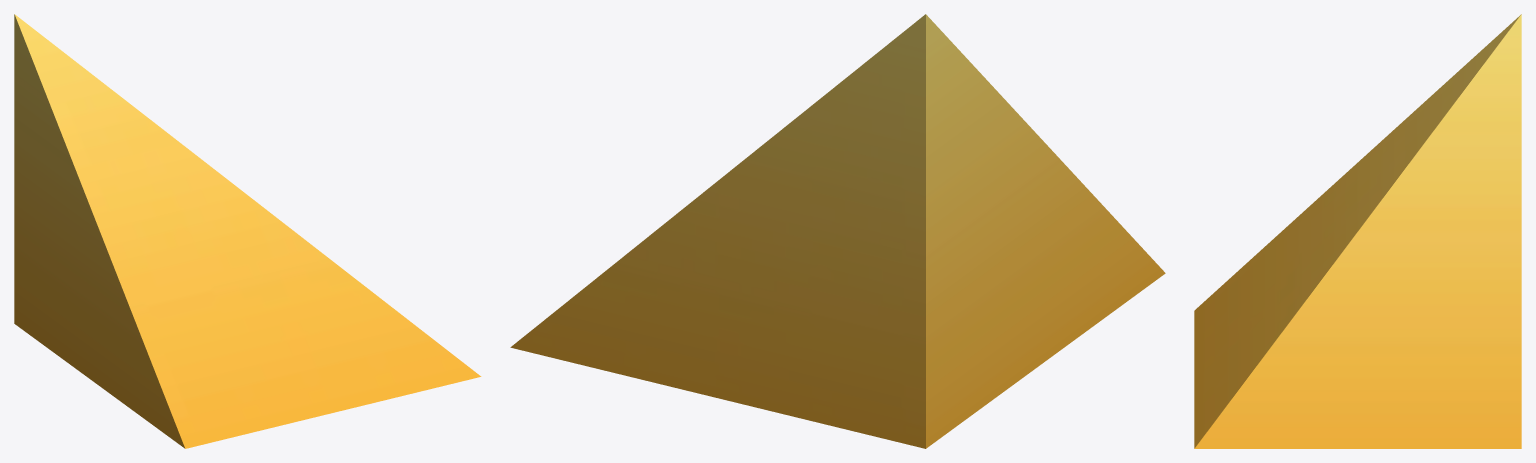
File: kaykit-prototype-bits-primitive-slope-outer-corner.glb
3 views of the same model, side by side, from view 1: azimuth 30°, elevation 25°; view 2: azimuth 150°, elevation 25°; view 3: azimuth 270°, elevation 25° (orthographic). The views are drawn at different scales.
Visible parts, largest first — view 1: Primitive_Slope_OuterCorner; view 2: Primitive_Slope_OuterCorner; view 3: Primitive_Slope_OuterCorner.
Boxes of the visible parts, bbox=[...] form: Primitive_Slope_OuterCorner: bbox=[14, 14, 481, 448]; Primitive_Slope_OuterCorner: bbox=[510, 14, 1165, 448]; Primitive_Slope_OuterCorner: bbox=[1194, 14, 1521, 448].
Size of the model in its own units: 4 by 4 by 4.
1 material, 1 textured.
